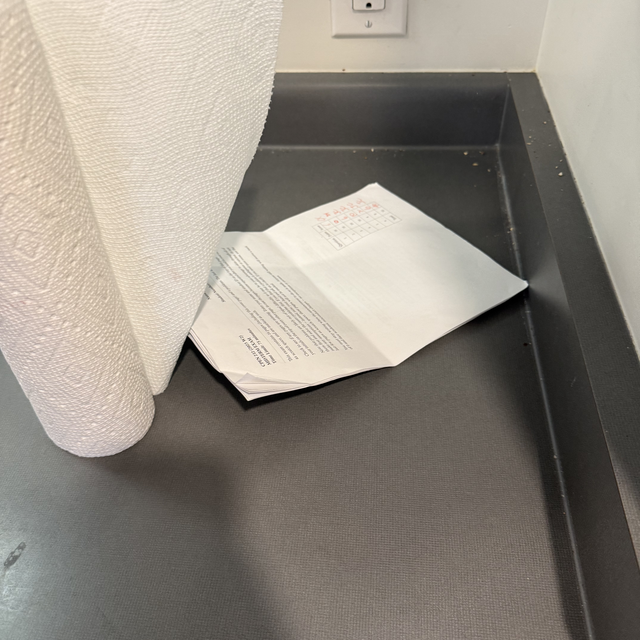Paper: (187, 137, 501, 422)
Paper Towel: (0, 3, 278, 449)
